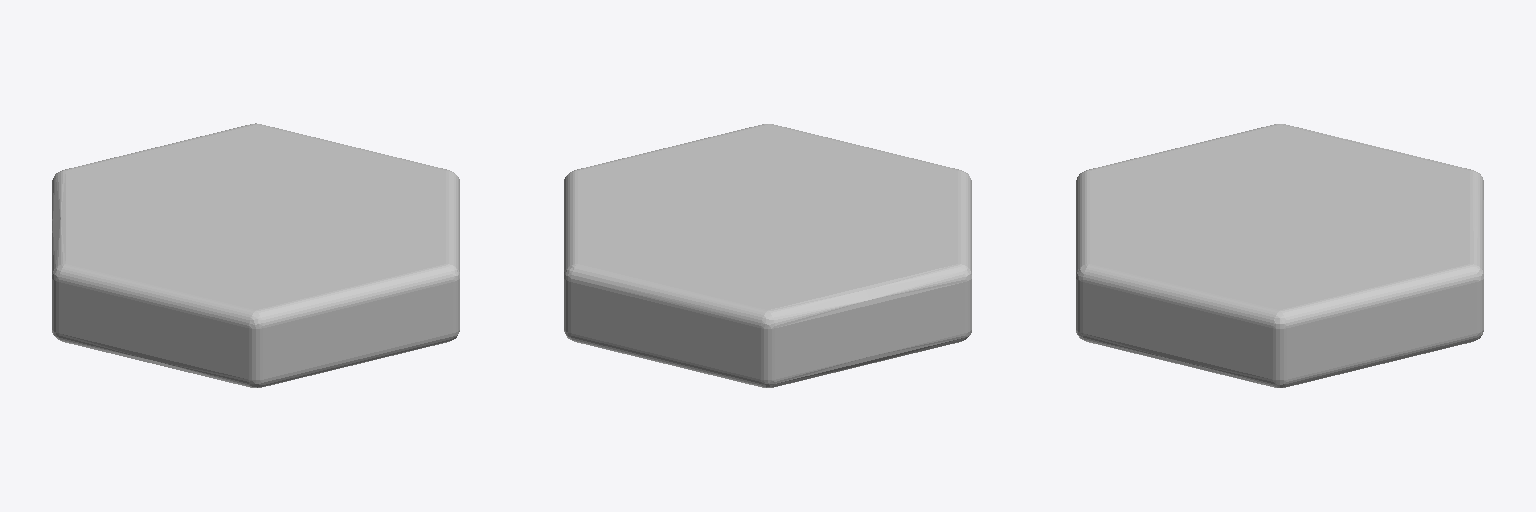
The model's file is qipan.obj.
3 views of the same model, side by side, from view 1: azimuth 30°, elevation 25°; view 2: azimuth 150°, elevation 25°; view 3: azimuth 270°, elevation 25° (orthographic).
Visible parts, largest first — view 1: object_2; view 2: object_2; view 3: object_2.
Boxes of the visible parts, x1,y1,x2,y2 form: object_2: [52, 123, 459, 387]; object_2: [564, 124, 971, 387]; object_2: [1076, 124, 1483, 387].
Size of the model in its own units: 6.79 by 1.23 by 5.94.